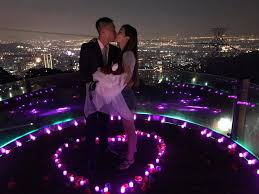people: (79, 17, 116, 161), (116, 25, 140, 170)
